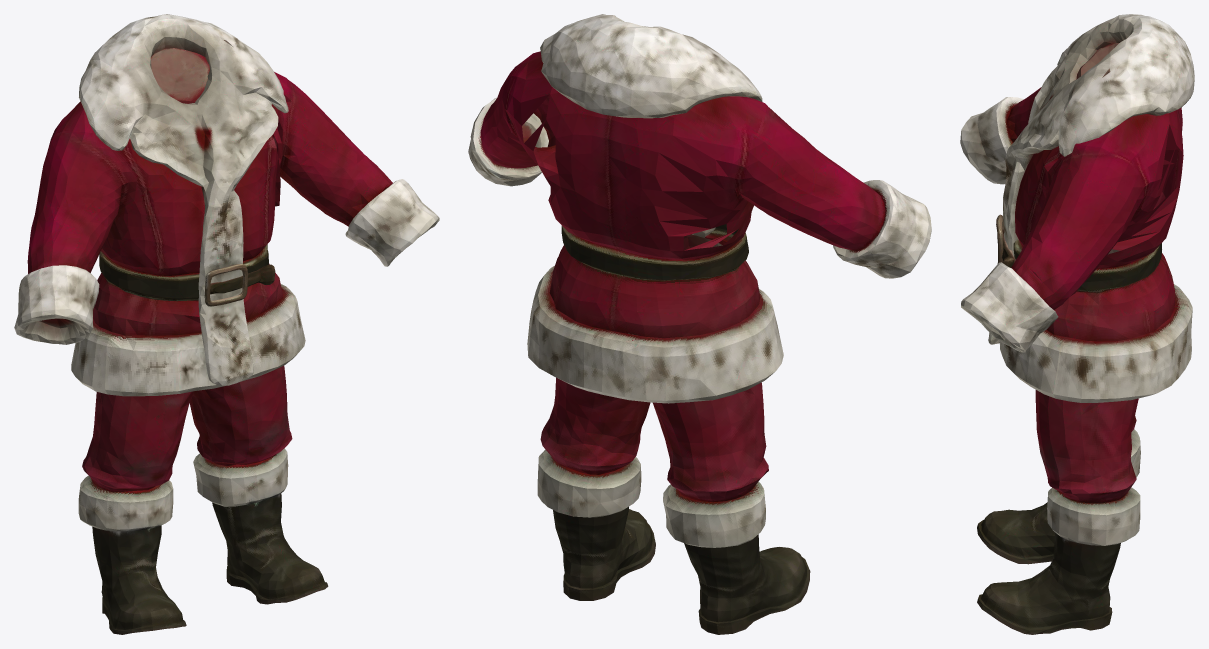
The model's file is ewm_t2santa_outfit.glb.
The picture shows the model from 3 angles, left to right: view 1: azimuth 30°, elevation 25°; view 2: azimuth 150°, elevation 25°; view 3: azimuth 270°, elevation 25°; orthographic projection. The views are drawn at different scales.
Parts seen in each view (by area): view 1: ewm_t2santa_outfit; view 2: ewm_t2santa_outfit; view 3: ewm_t2santa_outfit.
Part boxes in pixels (<box>): ewm_t2santa_outfit: <box>14,14,439,634</box>; ewm_t2santa_outfit: <box>468,14,931,634</box>; ewm_t2santa_outfit: <box>960,14,1194,634</box>.
Size of the model in its own units: 1.35 by 1.73 by 0.6481.
1 material, 1 textured.
